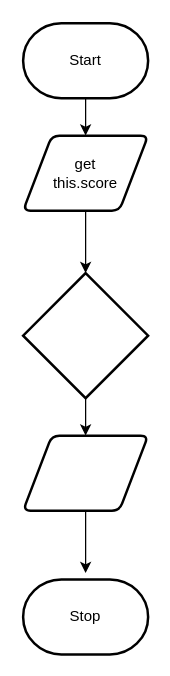
Image size: 170x676. Some labels were removed from this diagram. The shapes that lost their labels are listed below. From the top down, each one's box as (x1, y1, x2, y2) in pixels, then its label:
(21, 271, 149, 399): if this.score >= 5
(21, 434, 149, 511): Show "You win, Click to play again"
